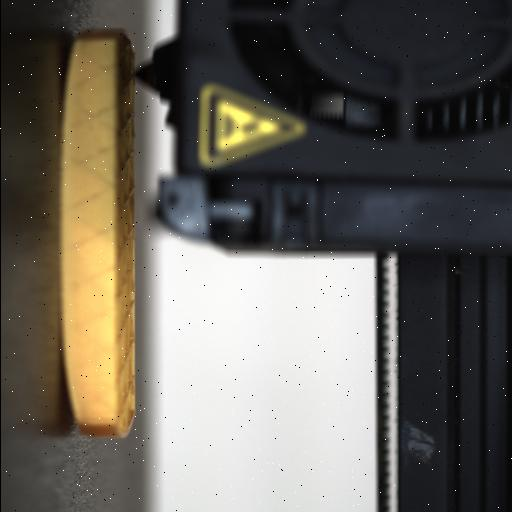warp: (55, 35, 77, 425)
